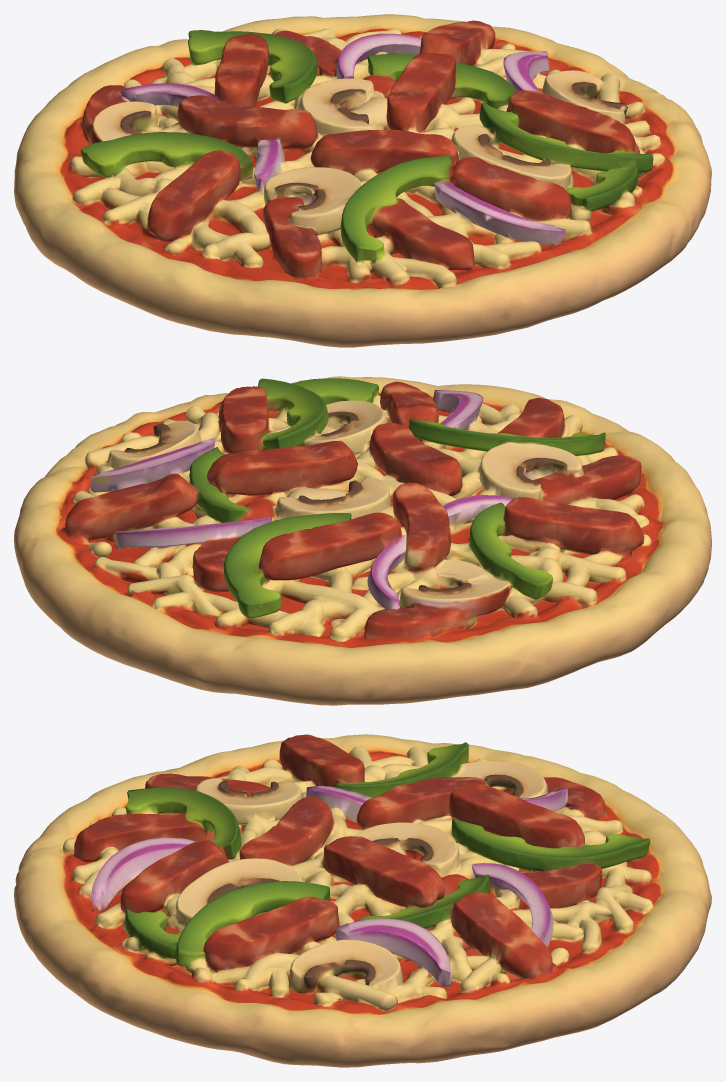
The model's file is tripo_convert_9343c78d-d766-4fe2-93fb-ae266324bf60.fbx.
The picture shows the model from 3 angles, top to bottom: view 1: azimuth 30°, elevation 25°; view 2: azimuth 150°, elevation 25°; view 3: azimuth 270°, elevation 25°; orthographic projection.
Parts seen in each view (by area): view 1: tripo_node_9343c78d; view 2: tripo_node_9343c78d; view 3: tripo_node_9343c78d.
Part boxes in pixels (x1,y1,x2,y2): tripo_node_9343c78d: (14, 14, 711, 347); tripo_node_9343c78d: (14, 376, 711, 705); tripo_node_9343c78d: (14, 734, 711, 1067).
Bounding box in the file's own units: 0.9789 × 0.1667 × 0.98.
